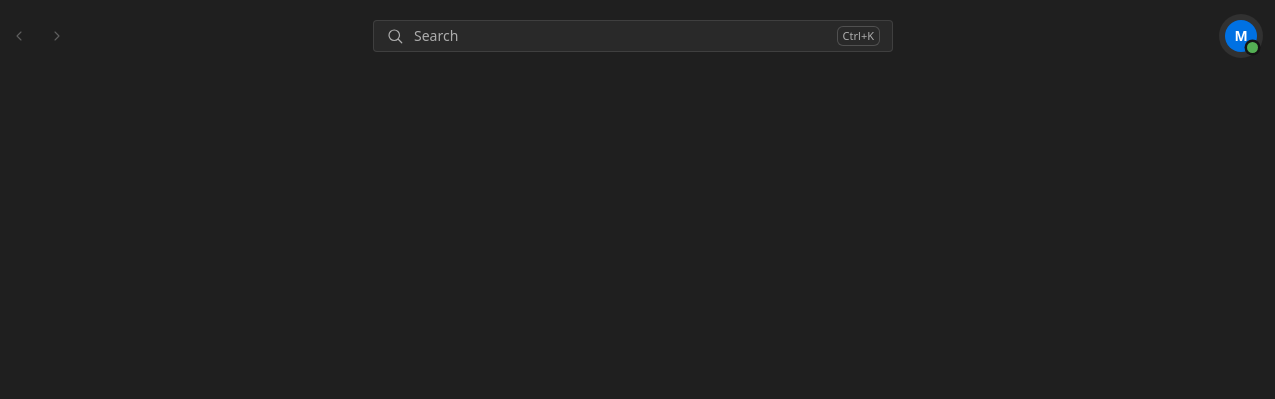
Test: lists chats, communities and channels under the search box
The width and height of the screenshot is (1275, 399).
In the field labelled "Search": (620, 36) [414, 26, 827, 46], type "al"
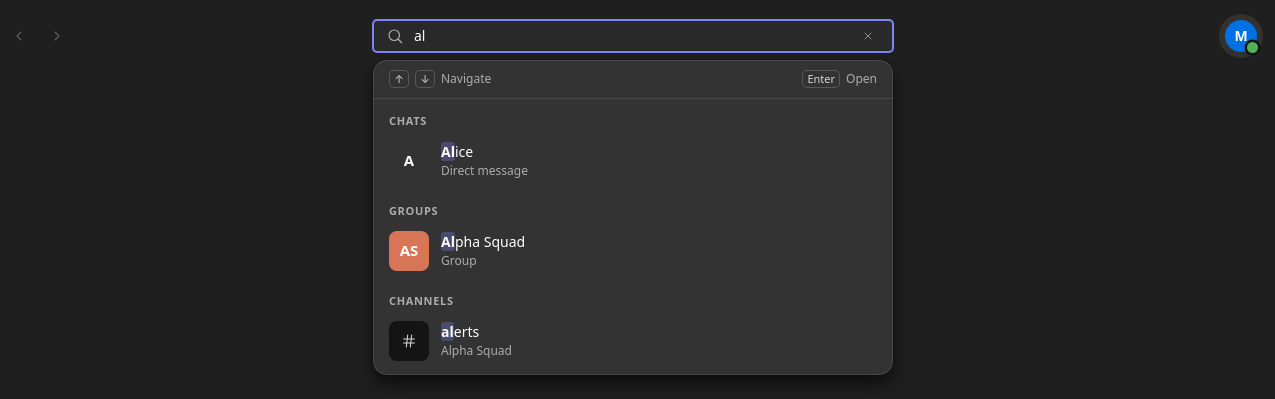
expect the element labelled "Chats" shows "Alice": met, box [379, 105, 887, 189]
expect the element labelled "Groups" shows "Alpha Squad": met, box [379, 195, 887, 279]
expect the element labelled "Channels" shows "alerts": met, box [379, 285, 887, 369]
